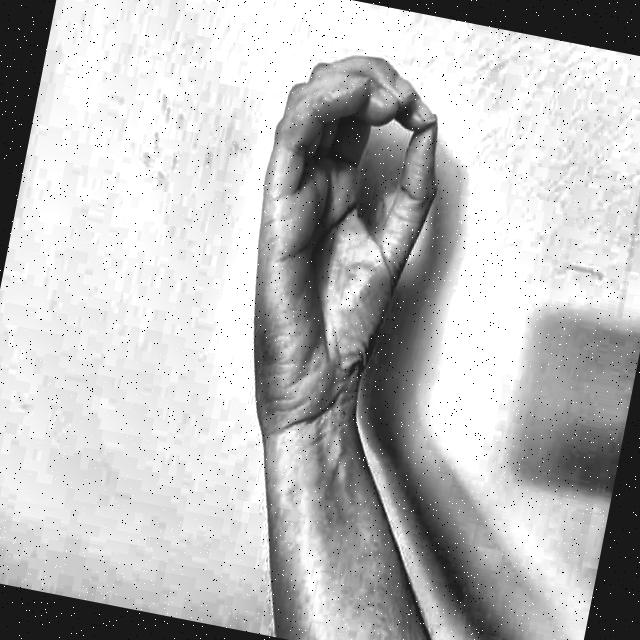O: (205, 18, 474, 472)
